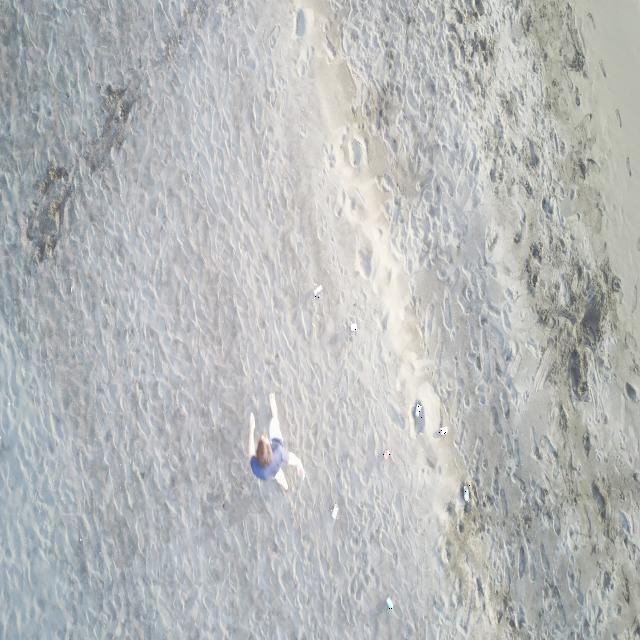tin-and-aluminum-cans: (312, 284, 322, 298), (463, 484, 470, 504), (331, 504, 339, 519), (414, 403, 422, 418), (386, 597, 394, 611), (438, 426, 449, 436), (383, 449, 391, 460), (350, 322, 357, 332)
